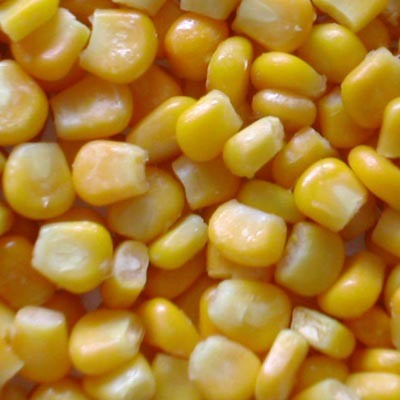corn: (206, 277, 291, 356), (81, 6, 160, 83), (292, 155, 367, 233), (33, 222, 114, 294), (207, 198, 288, 265), (73, 139, 149, 208), (175, 89, 242, 161)
